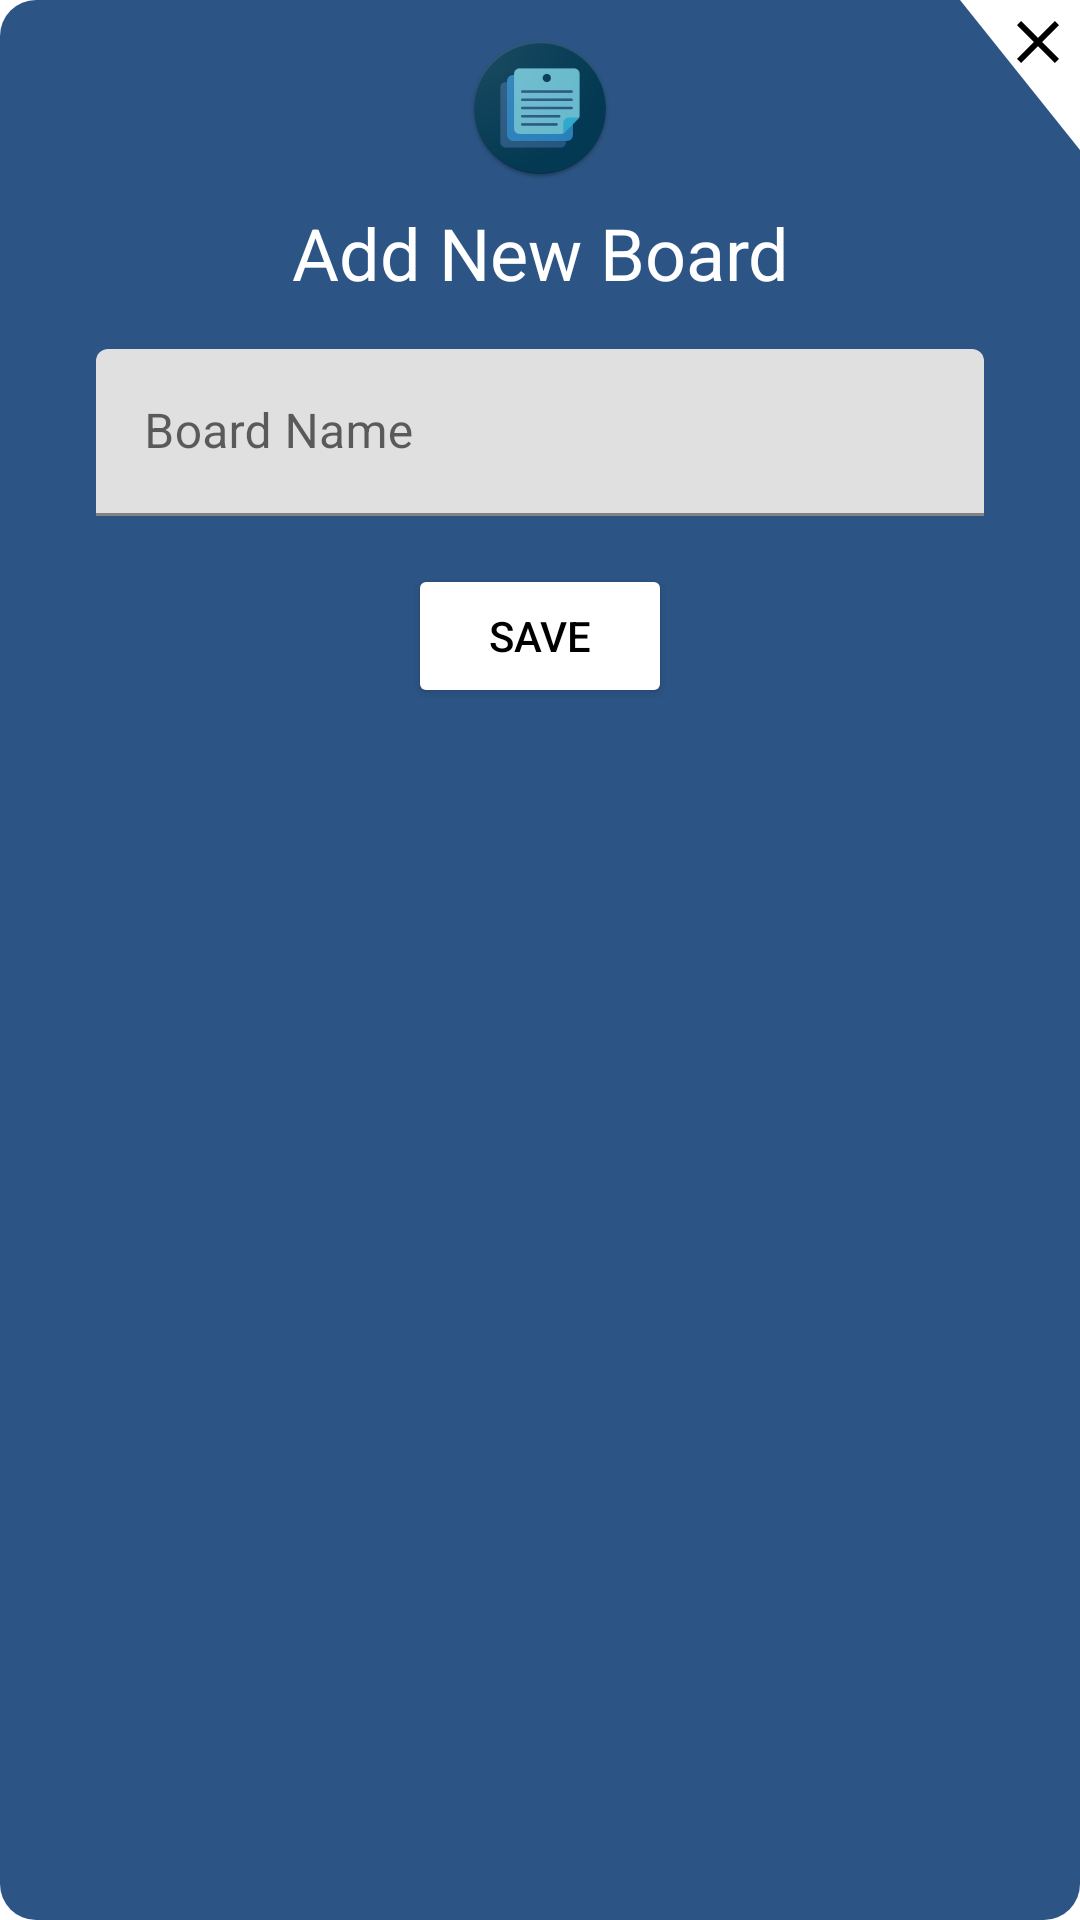

Named icons in this screenshot (1080*1920) and their centers, point (x, y):
clear: point (1038, 42)
